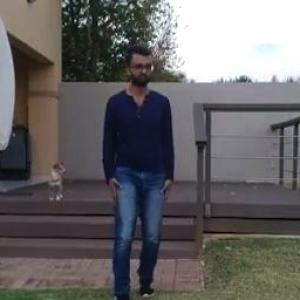follow: (96, 20, 202, 285)
